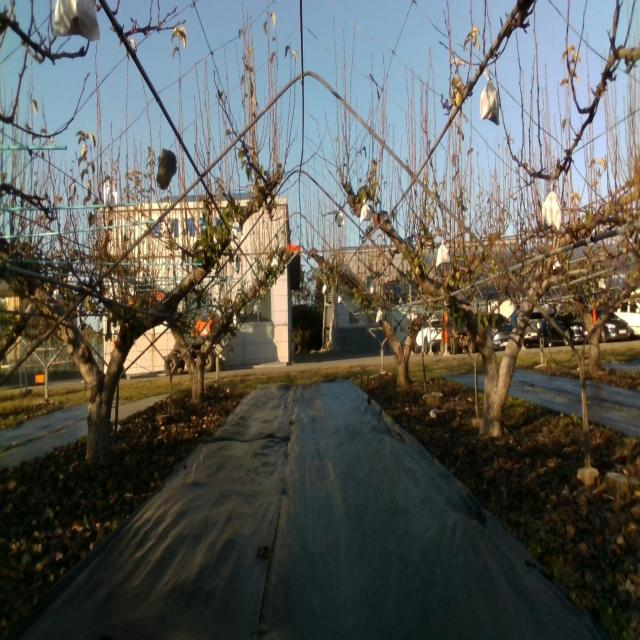pearbags: (51, 0, 101, 43), (479, 69, 501, 125), (541, 193, 561, 233), (436, 240, 452, 268), (360, 199, 371, 225), (230, 218, 242, 241)
